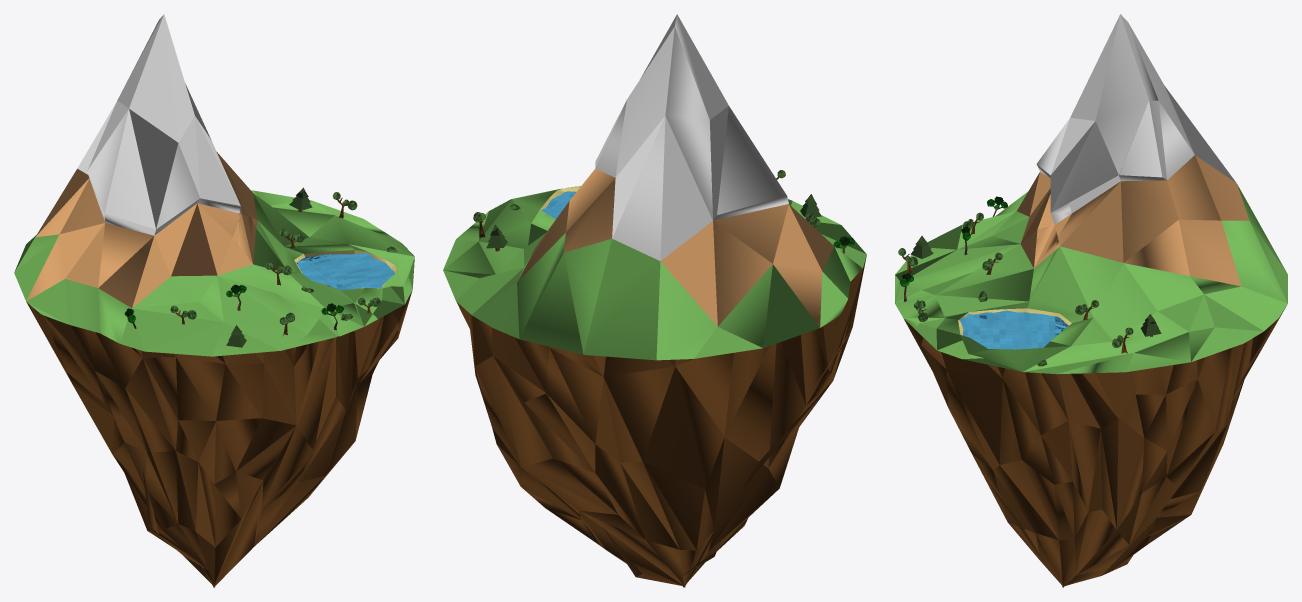
Rendered from island.fbx.
3 renders of one model, left to right at view 1: azimuth 30°, elevation 25°; view 2: azimuth 150°, elevation 25°; view 3: azimuth 270°, elevation 25°, orthographic. The views are drawn at different scales.
Visible parts, largest first — view 1: island; view 2: island; view 3: island.
Part boxes in pixels (x1,y1,x2,y2): island: (14, 14, 414, 587); island: (443, 14, 866, 587); island: (895, 14, 1287, 587).
Size of the model in its own units: 200 by 311 by 197.
